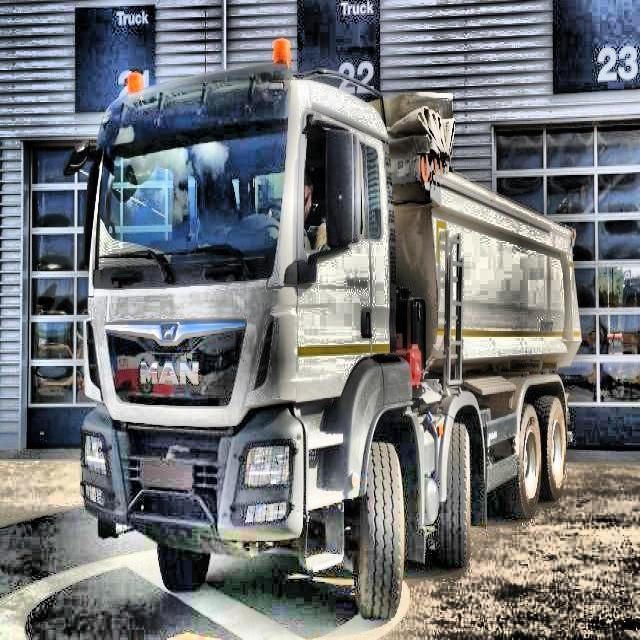dump_truck: (81, 65, 582, 622)
